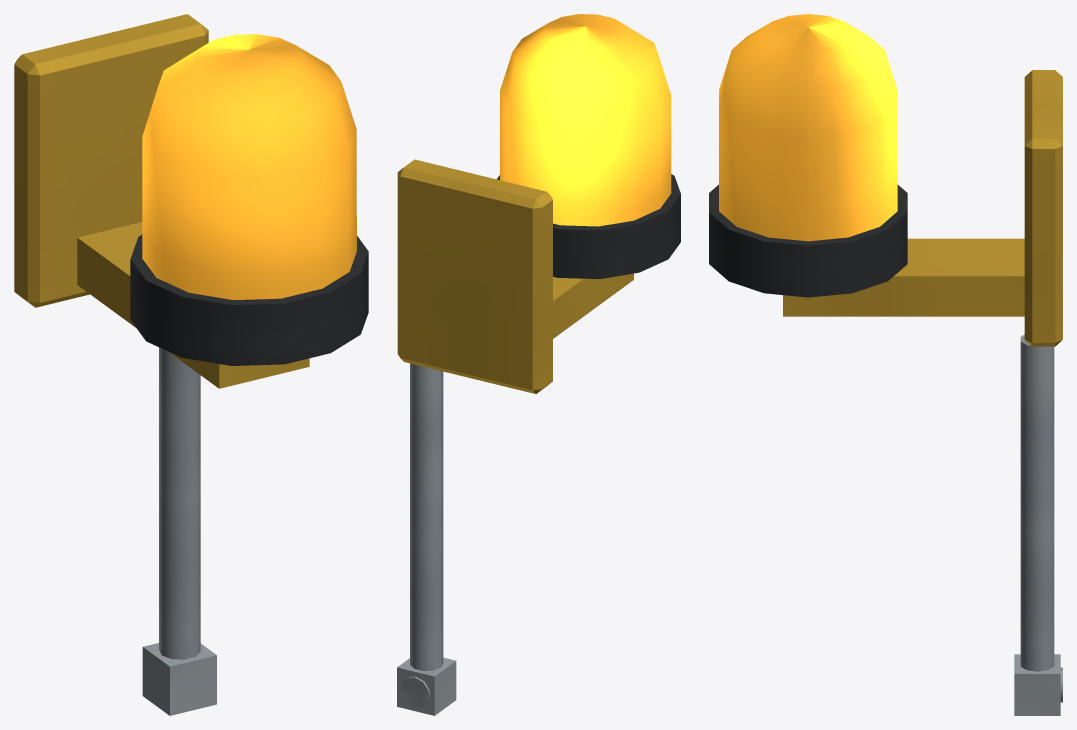
The model's file is beacon.fbx.
The picture shows the model from 3 angles, left to right: view 1: azimuth 30°, elevation 25°; view 2: azimuth 150°, elevation 25°; view 3: azimuth 270°, elevation 25°; orthographic projection. The views are drawn at different scales.
Visible parts, largest first — view 1: beacon, beacon_lamp; view 2: beacon, beacon_lamp; view 3: beacon, beacon_lamp.
Boxes of the visible parts, x1,y1,x2,y2 form: beacon: (14, 14, 368, 715); beacon_lamp: (142, 34, 356, 300); beacon: (397, 159, 680, 715); beacon_lamp: (500, 14, 671, 226); beacon: (709, 70, 1062, 715); beacon_lamp: (719, 14, 897, 241).
Bounding box in the file's own units: 0.16 × 0.5652 × 0.278.
1 material, 1 textured.
